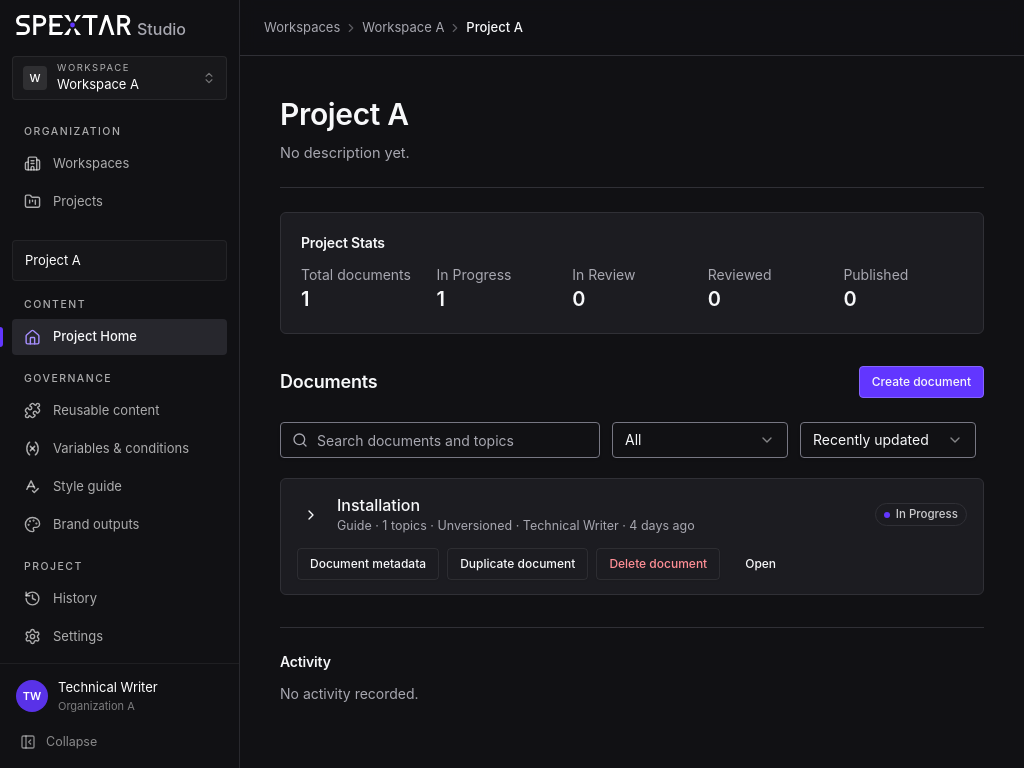
Scenario: F2 UI persistence and read-only states › creates a document using the existing dialog design, refreshes counts and opens Author
Click the button "Create document" at coordinates (921, 382), box x1=859 y1=366 x2=984 y2=398
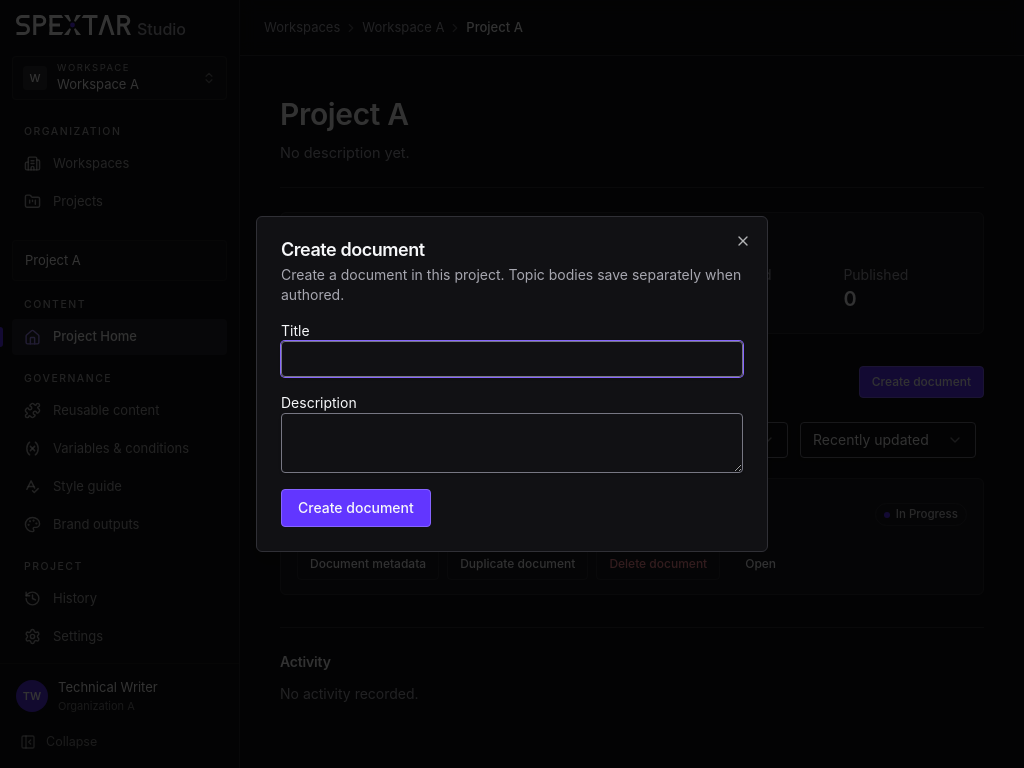
Type "Service manual" into the field named "Create document title" at coordinates (512, 359), box x1=281 y1=341 x2=743 y2=377
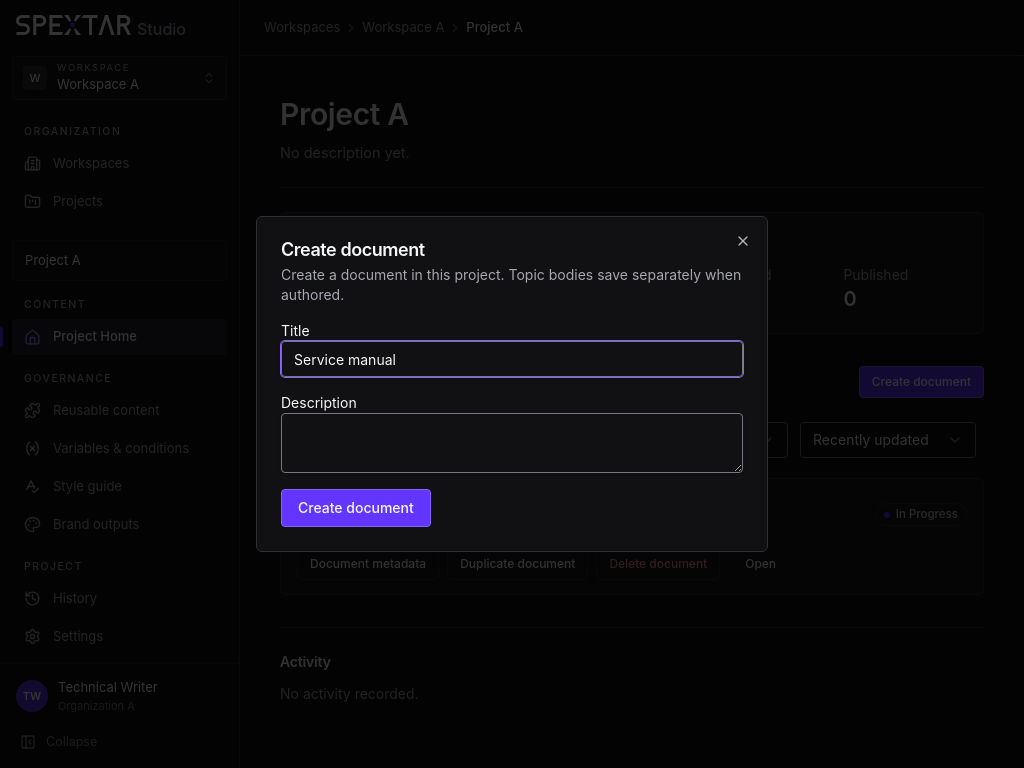
Click the button "Create document" at coordinates (356, 508), box x1=281 y1=489 x2=431 y2=527
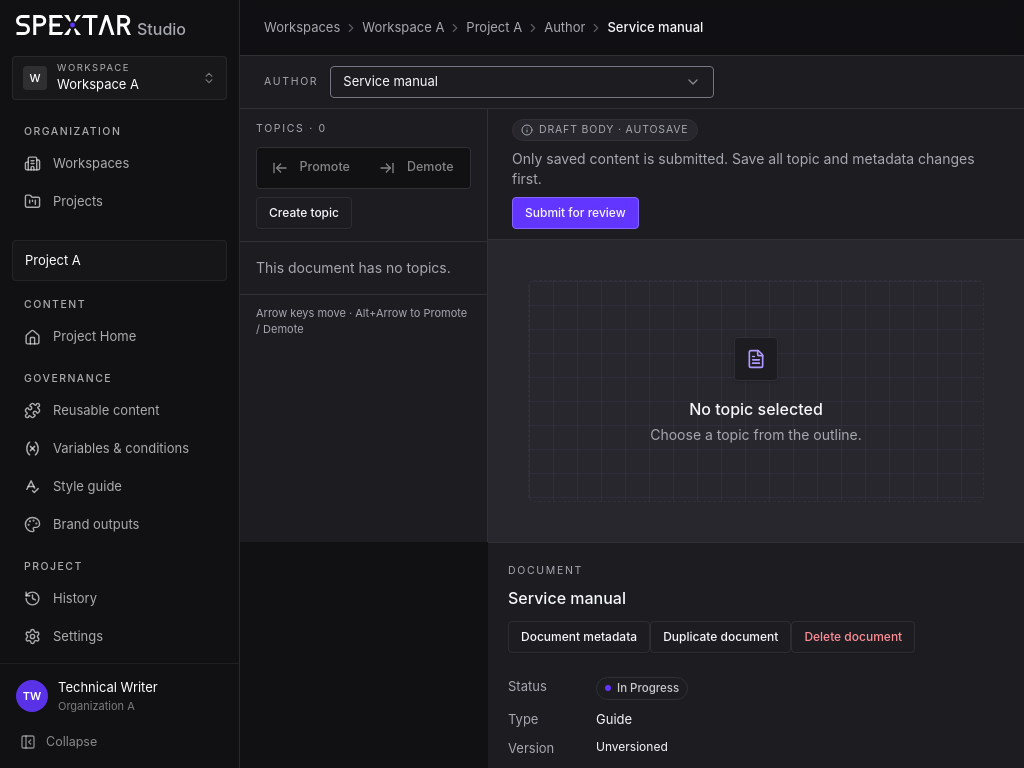
Result: the text "This document has no topics." is shown at x1=256 y1=259 x2=451 y2=276
